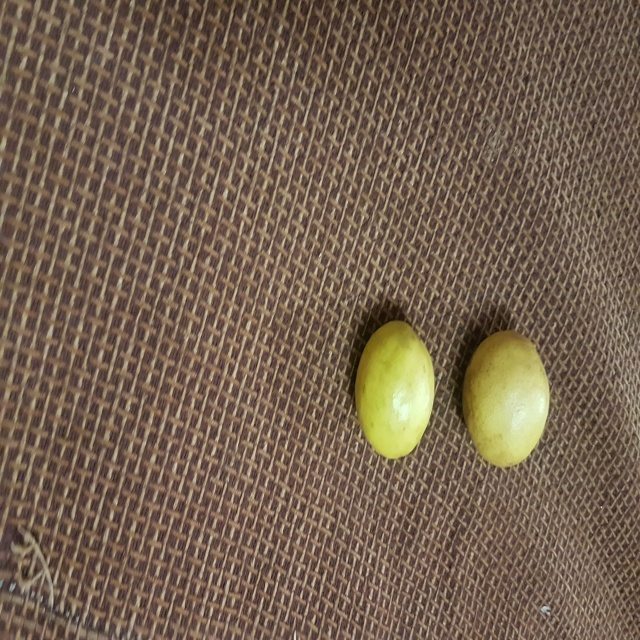lemon: (456, 317, 562, 473), (348, 317, 442, 465)
